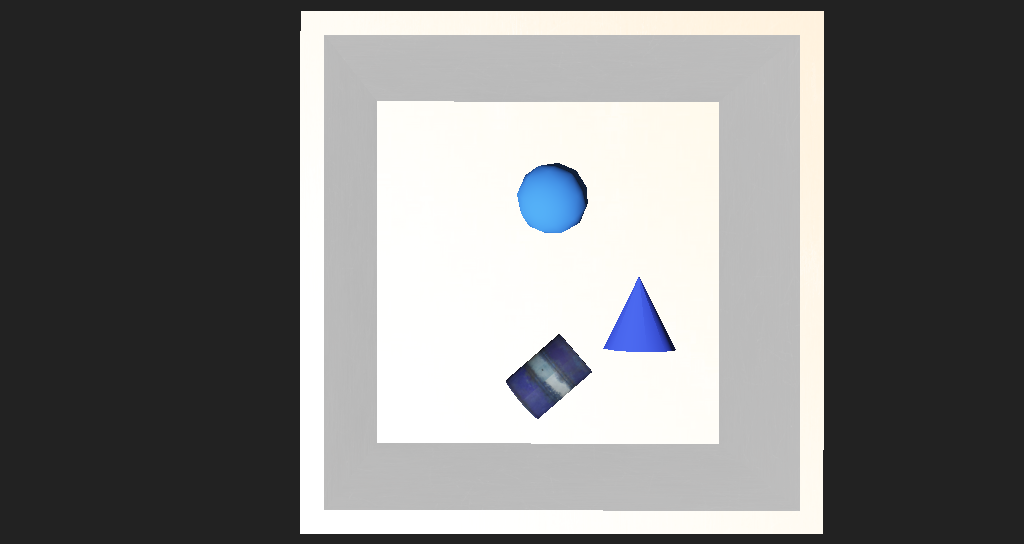cone: (465, 305, 546, 363)
cylinder: (552, 270, 620, 322)
sphere: (482, 203, 542, 246)
